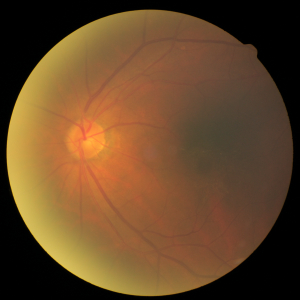cataract: (33, 93, 234, 212)
